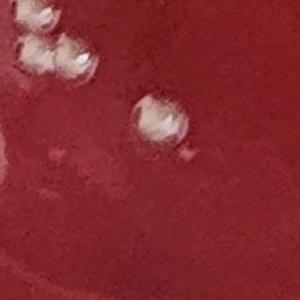colony: (127, 88, 197, 161), (46, 27, 105, 96), (9, 29, 63, 83), (5, 0, 66, 39)
